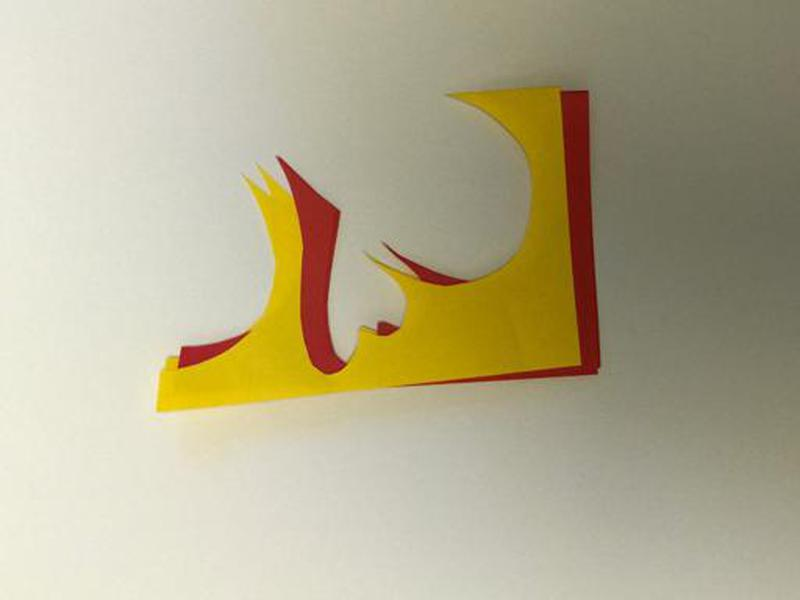paper: (151, 80, 604, 416)
